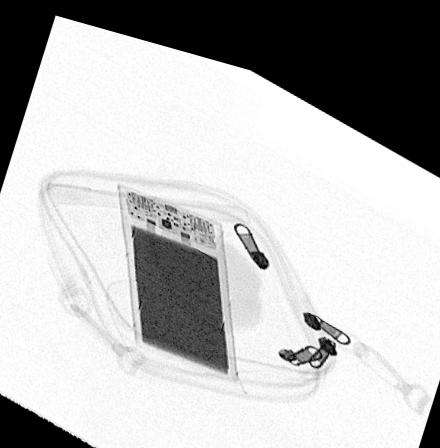Powerbank: (117, 176, 239, 369)
